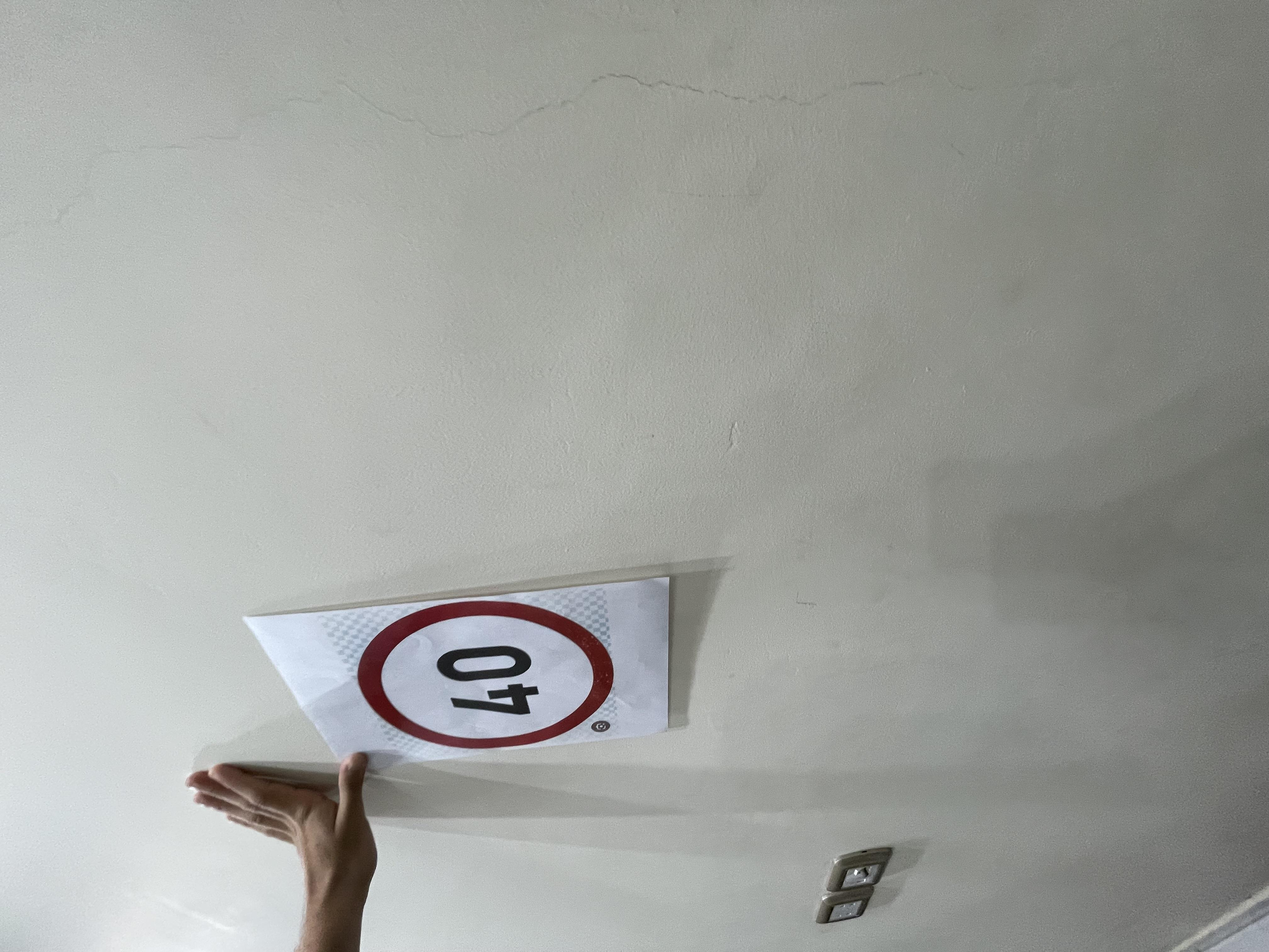40-Speed: (268, 272, 476, 460)
